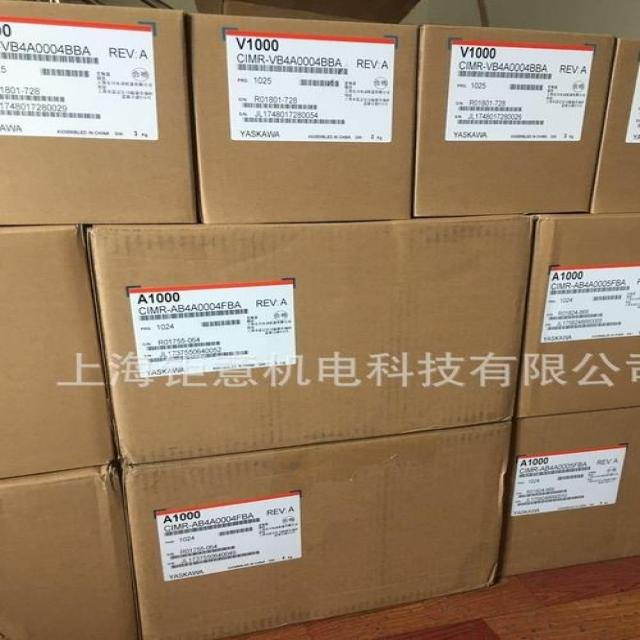box: (82, 215, 535, 466), (120, 419, 514, 639), (183, 13, 418, 224), (0, 1, 196, 225), (412, 24, 618, 218), (0, 224, 119, 479), (515, 212, 639, 419), (0, 463, 140, 639), (497, 405, 639, 577), (592, 37, 639, 213)
